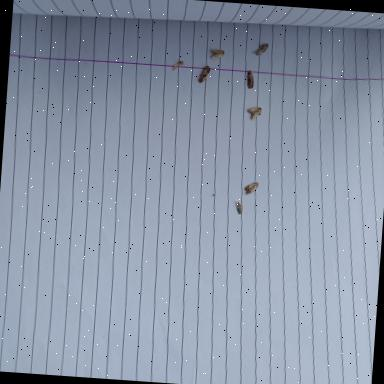pbw: (198, 64, 211, 84), (244, 180, 259, 194), (247, 106, 262, 120), (254, 42, 268, 56), (246, 70, 254, 90), (210, 48, 224, 59)
